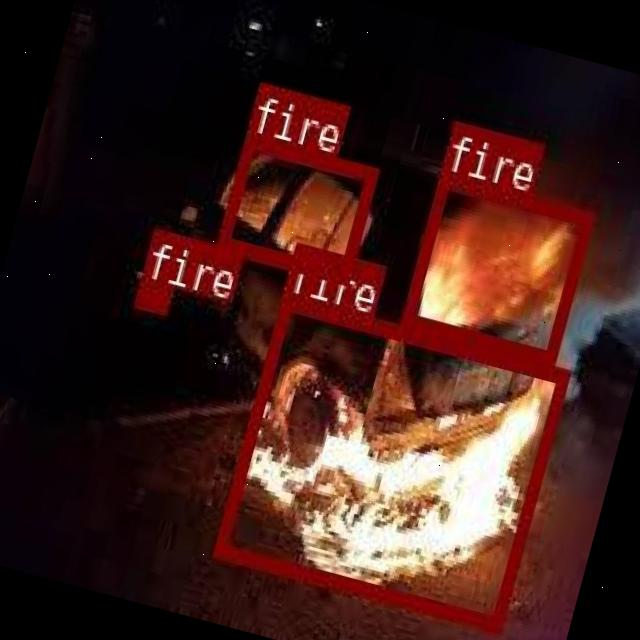fire: (212, 292, 568, 628), (401, 171, 594, 363), (216, 130, 376, 280), (134, 278, 172, 310)
